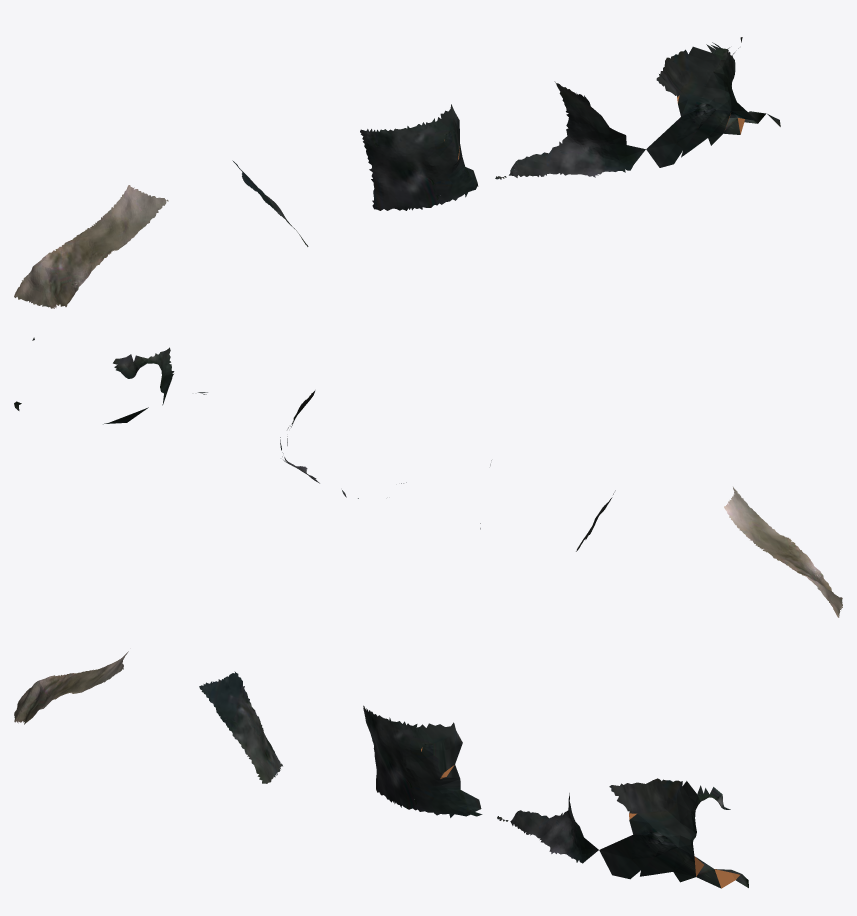
Rendered from tile_0136.gltf.
3 renders of one model, top to bottom at view 1: azimuth 30°, elevation 25°; view 2: azimuth 150°, elevation 25°; view 3: azimuth 330°, elevation 25°, orthographic.
Parts seen in each view (by area): view 1: defaultobject; view 2: defaultobject; view 3: defaultobject.
Boxes of the visible parts, x1,y1,x2,y2 form: defaultobject: [14, 37, 780, 308]; defaultobject: [14, 337, 842, 617]; defaultobject: [14, 651, 748, 888].
Bounding box in the file's own units: 1.65 × 0.186 × 0.103.
2 materials, 2 textured.
